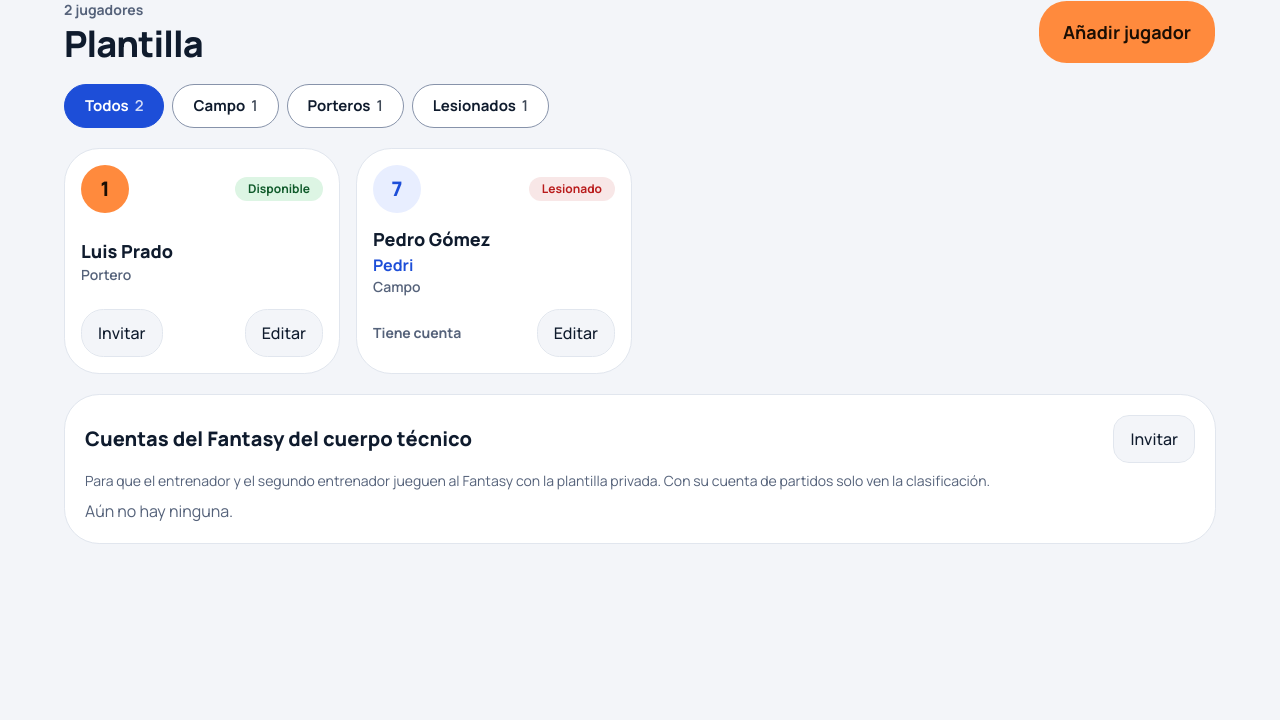
Test case: PlantillaPage › el entrenador cambia y borra el alias de un jugador
Expected: the text "Pedri" is shown, [373,254,414,276]
Click the button with aria-label "Editar Pedro Gómez" at x=576, y=333, box [537,309,615,357]
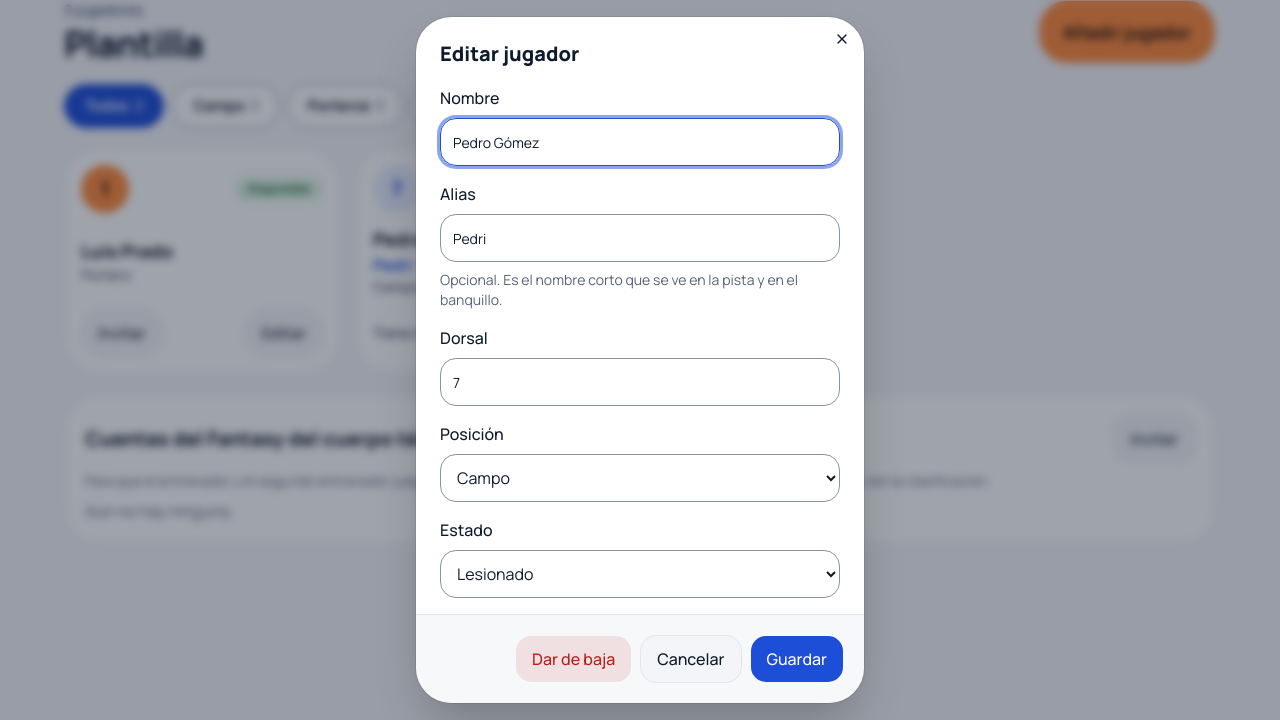
Expected: the field labelled "Alias" holds "Pedri"
Clear the field labelled "Alias" at x=640, y=238, box [440,214,840,262]
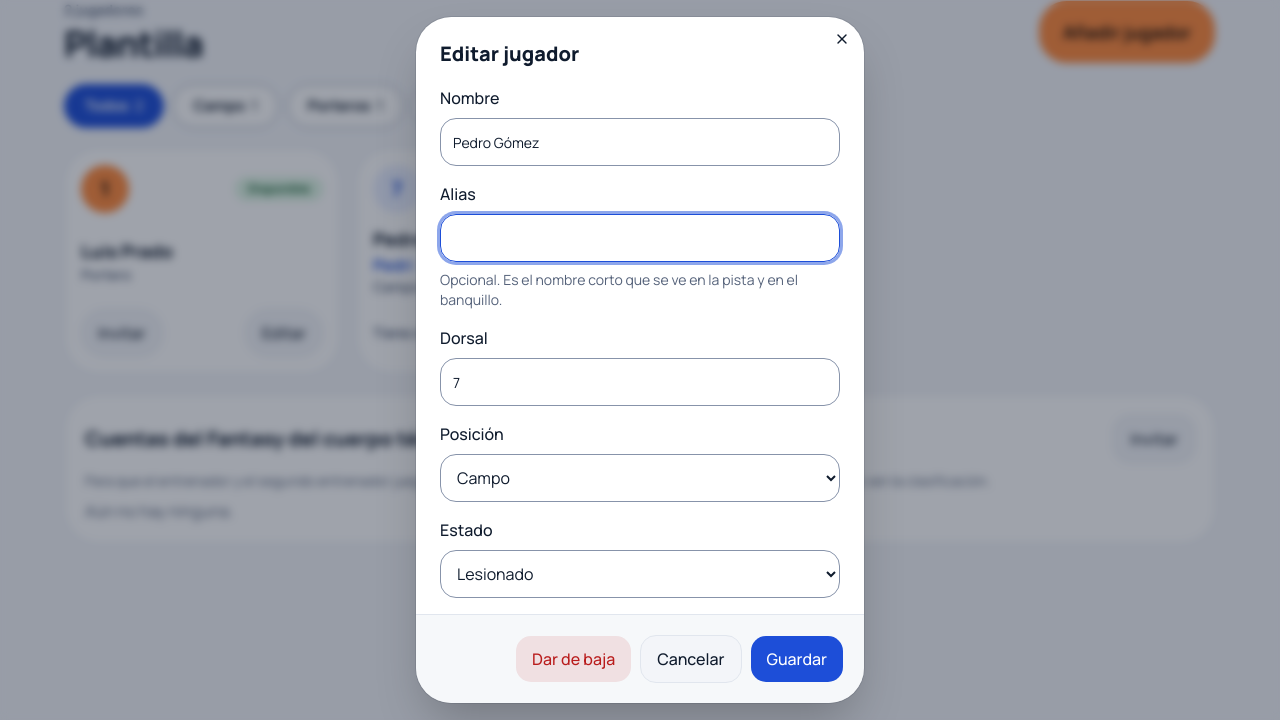
Click the button "Guardar" at x=797, y=659, box [750,635,844,683]
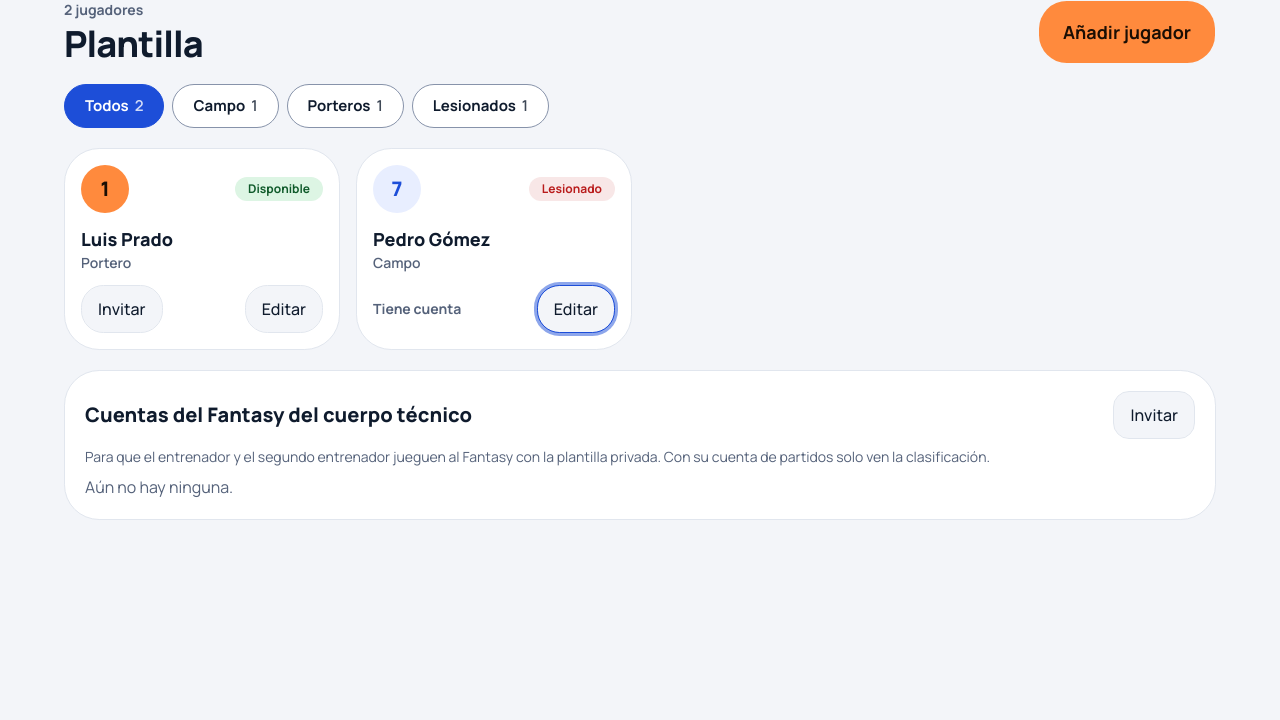
Expected: the text "Pedri" is gone
